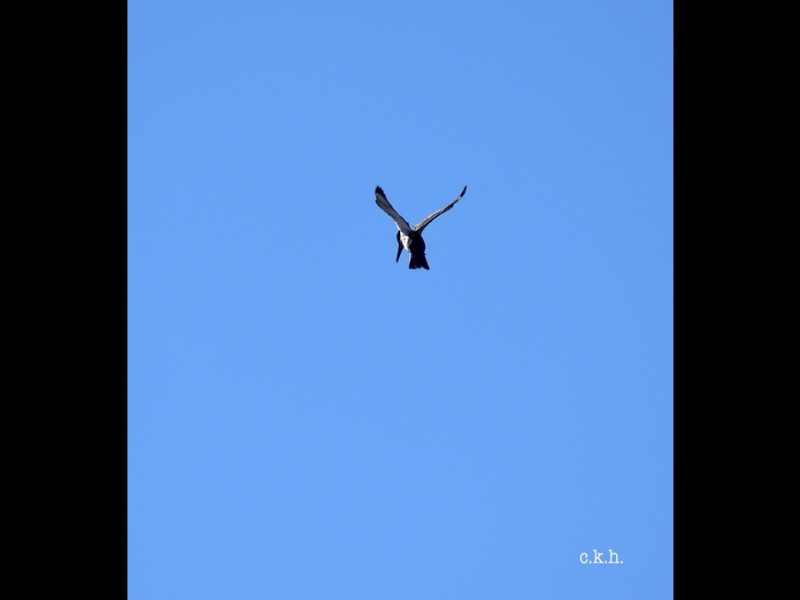kingfisher: (368, 176, 472, 280)
